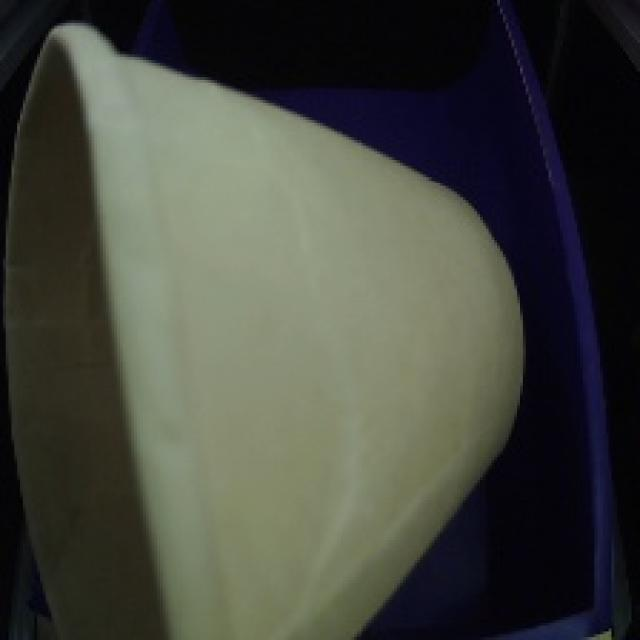cups: (0, 14, 534, 640)
